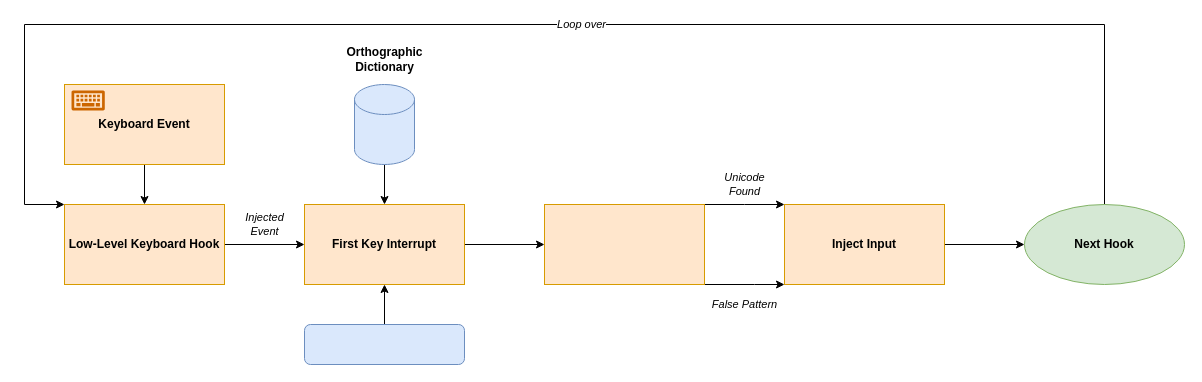
Some shapes in this 1202 by 382 pixel diagram are drawn without their labels. Here are the shapes that lost their labels. From the top down, the centre of each, then its label:
At point (624, 244): "Second Key Interrupt".
At point (384, 344): "Case Handling".
